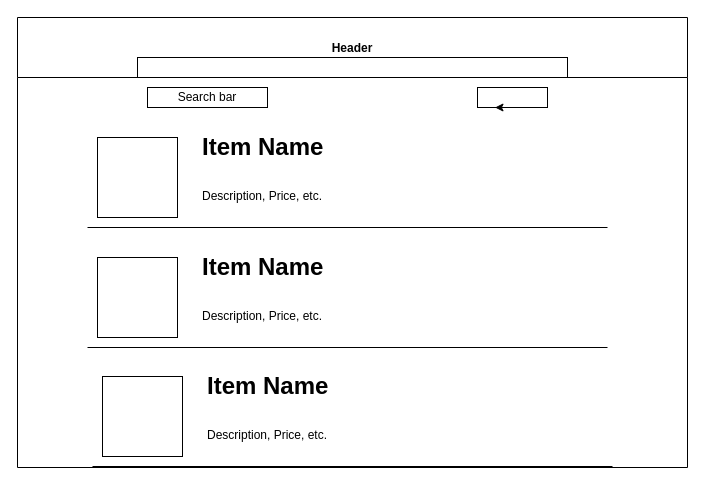
This 705x485 diagram has some shape labels left out. Each missing label, with the centre of its shape:
Filter (TBD): pixel 512 97
Navbar: pixel 352 67
